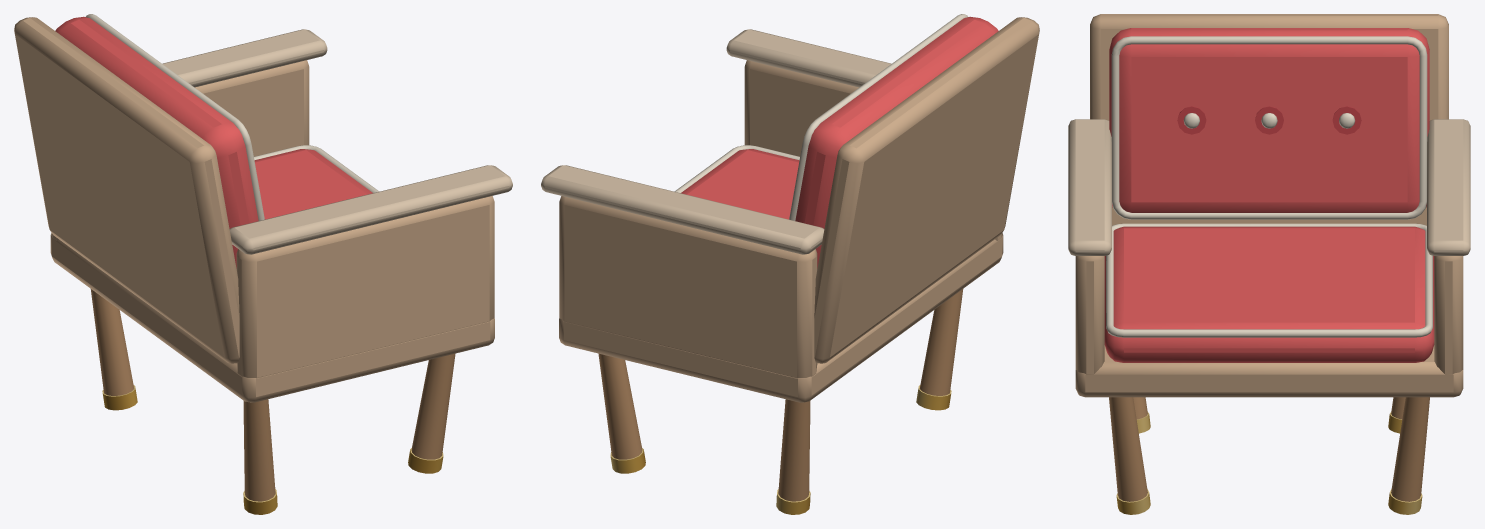
Rendered from waiting_chair.glb.
The picture shows the model from 3 angles, left to right: view 1: azimuth 30°, elevation 25°; view 2: azimuth 150°, elevation 25°; view 3: azimuth 270°, elevation 25°; orthographic projection. The views are drawn at different scales.
Visible parts, largest first — view 1: WaitingChair; view 2: WaitingChair; view 3: WaitingChair.
Boxes of the visible parts, x1,y1,x2,y2 form: WaitingChair: (14,14,512,514); WaitingChair: (541,14,1039,514); WaitingChair: (1068,14,1470,514).
Size of the model in its own units: 0.7125 by 0.8704 by 0.83.
